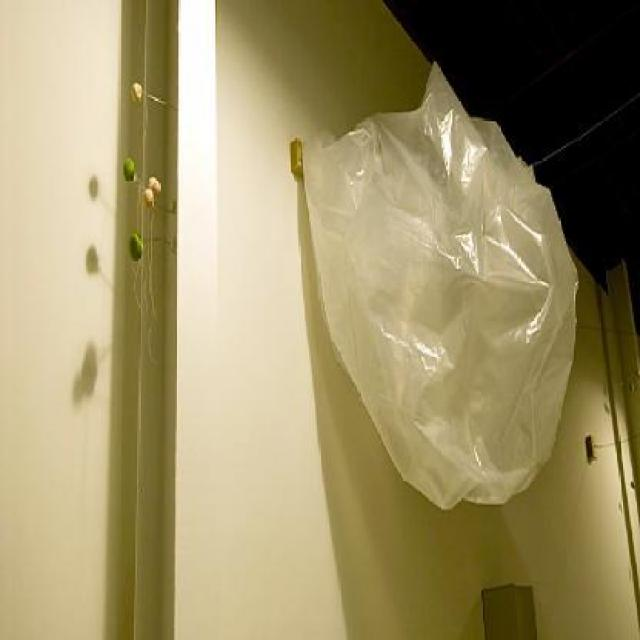plastic bag: (300, 51, 580, 511)
